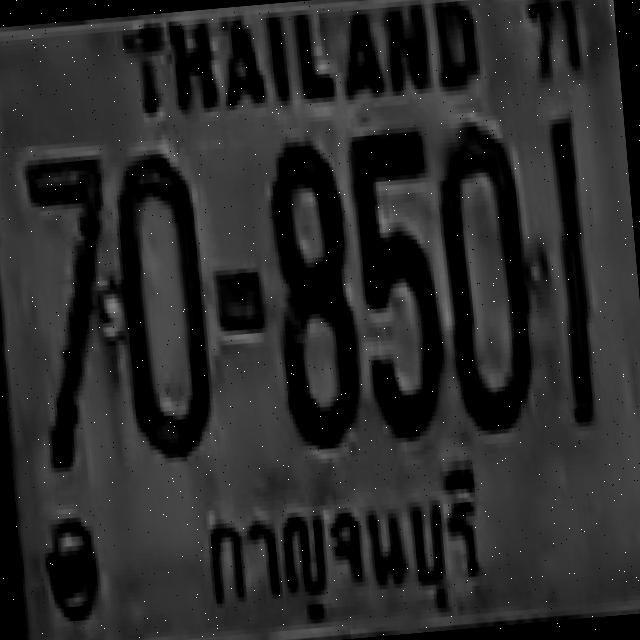0: (431, 116, 541, 430), (104, 146, 214, 456)
1: (544, 110, 598, 424)
5: (346, 124, 448, 438)
7: (20, 150, 126, 463)
8: (262, 136, 362, 444)
Kanchanaburi: (192, 452, 502, 640)
